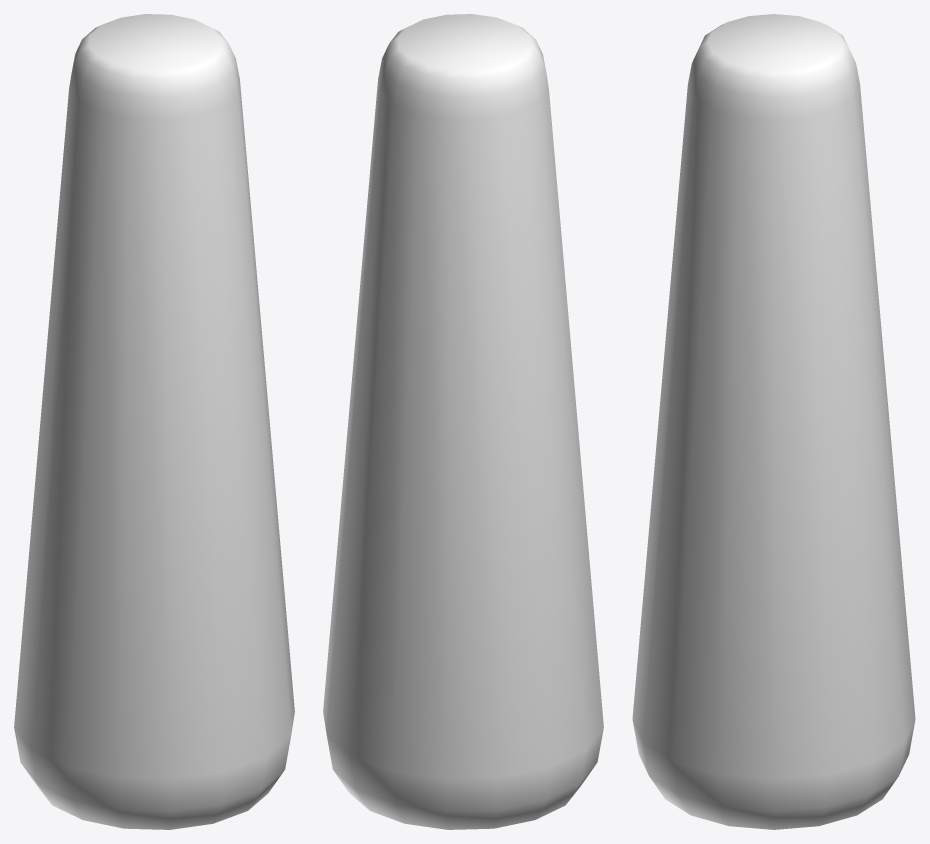
The model's file is pestle.fbx.
The picture shows the model from 3 angles, left to right: view 1: azimuth 30°, elevation 25°; view 2: azimuth 150°, elevation 25°; view 3: azimuth 270°, elevation 25°; orthographic projection.
Parts seen in each view (by area): view 1: pestle; view 2: pestle; view 3: pestle.
Boxes of the visible parts, <box> form: pestle: <box>14,14,294,829</box>; pestle: <box>323,14,603,829</box>; pestle: <box>632,14,915,829</box>.
Bounding box in the file's own units: 123 × 358 × 123.
